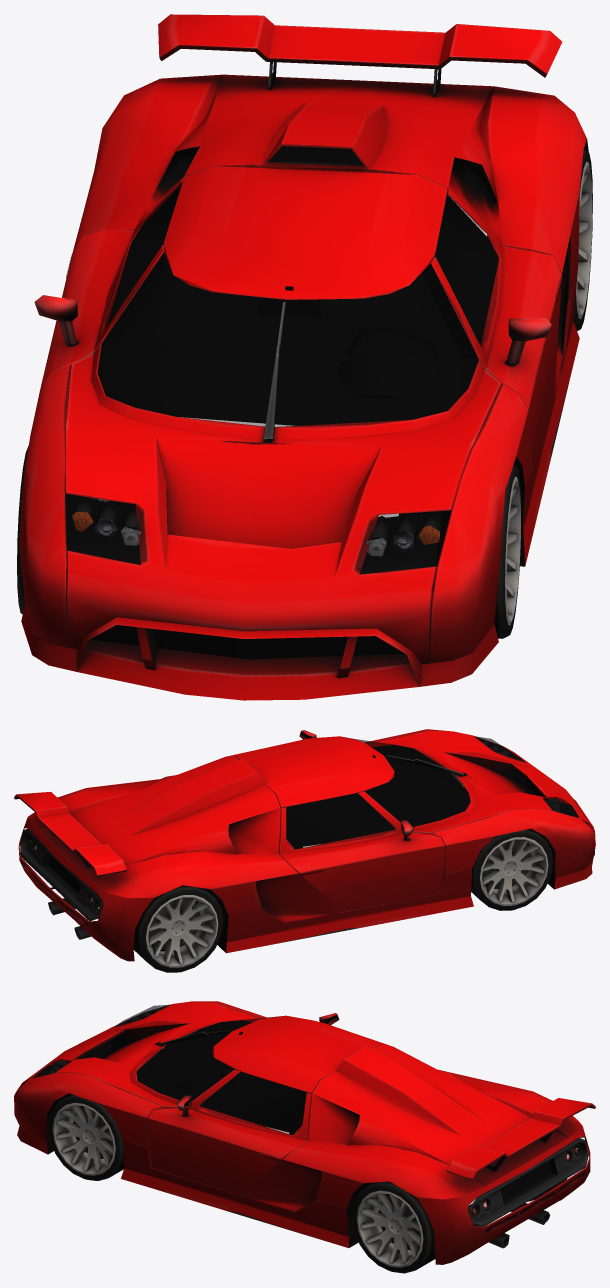
Rendered from generico-esportivo.glb.
3 views of the same model, one above another, from view 1: azimuth 30°, elevation 25°; view 2: azimuth 150°, elevation 25°; view 3: azimuth 270°, elevation 25° (orthographic). The views are drawn at different scales.
Parts seen in each view (by area): view 1: Sport body, Wheel_H, Wheel_H001; view 2: Sport body, Wheel_H003, Wheel_H002; view 3: Sport body, Wheel_H001, Wheel_H.
Boxes of the visible parts, <box> form: Sport body: <box>19,14,588,700</box>; Wheel_H: <box>429,465,521,638</box>; Wheel_H001: <box>494,149,592,330</box>; Sport body: <box>14,729,595,961</box>; Wheel_H003: <box>133,885,223,972</box>; Wheel_H002: <box>471,828,553,910</box>; Sport body: <box>14,1001,595,1264</box>; Wheel_H001: <box>352,1181,435,1273</box>; Wheel_H: <box>48,1094,124,1180</box>.
Size of the model in its own units: 3.28 by 1.04 by 3.79.
4 materials, 3 textured.
